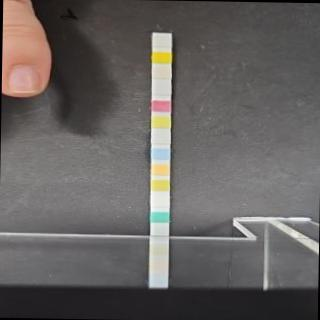mark: (152, 50, 172, 64), (150, 162, 170, 175), (150, 178, 170, 191), (150, 83, 171, 95), (151, 115, 170, 128), (151, 132, 170, 145), (152, 67, 172, 79), (150, 211, 170, 223), (151, 195, 169, 208), (152, 100, 171, 112), (150, 148, 169, 160), (152, 36, 171, 47)
